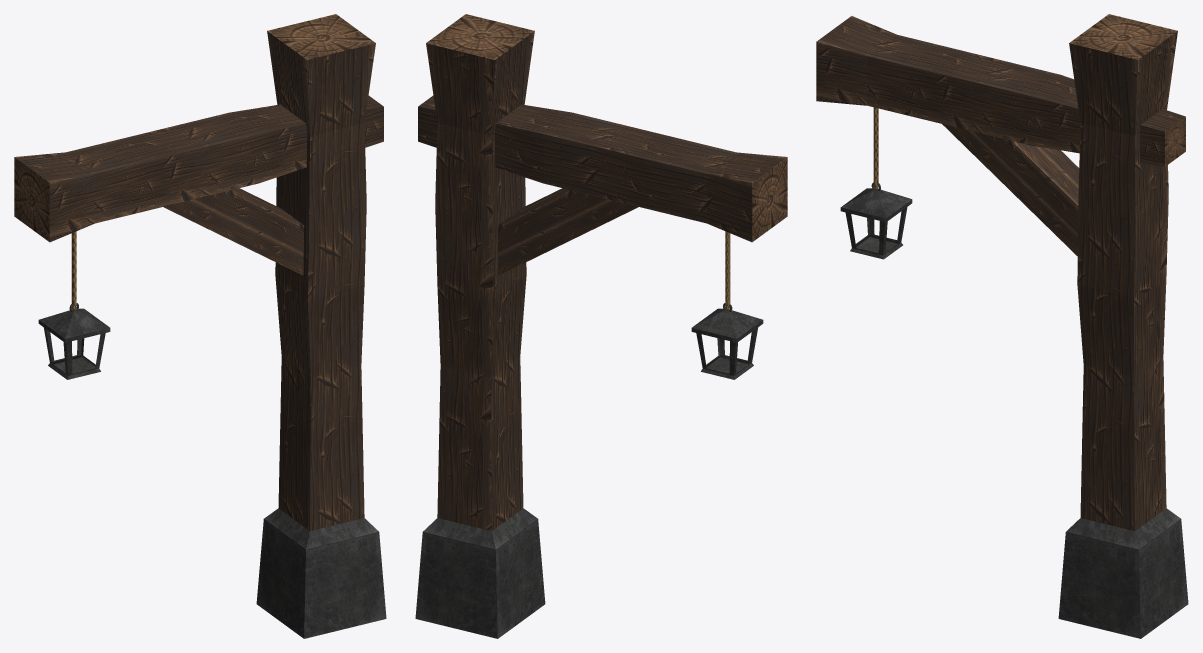
Rendered from poste de luz.fbx.
The picture shows the model from 3 angles, left to right: view 1: azimuth 30°, elevation 25°; view 2: azimuth 150°, elevation 25°; view 3: azimuth 330°, elevation 25°; orthographic projection.
Visible parts, largest first — view 1: Cube; view 2: Cube; view 3: Cube.
Boxes of the visible parts, x1=… form: Cube: x1=14, y1=14, x2=386, y2=638; Cube: x1=415, y1=14, x2=787, y2=638; Cube: x1=816, y1=14, x2=1188, y2=638.
Bounding box in the file's own units: 572 × 920 × 138.
Materials: 4 (4 with a texture image).
